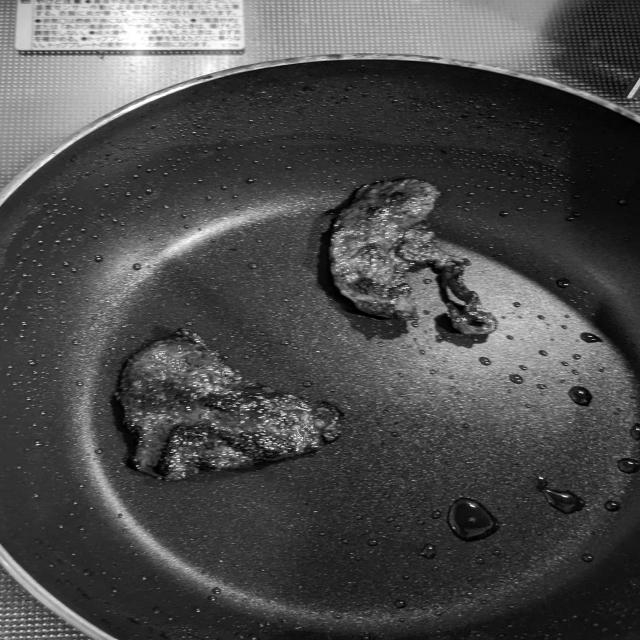overcooked beef,: (117, 327, 351, 488), (321, 170, 507, 338)
